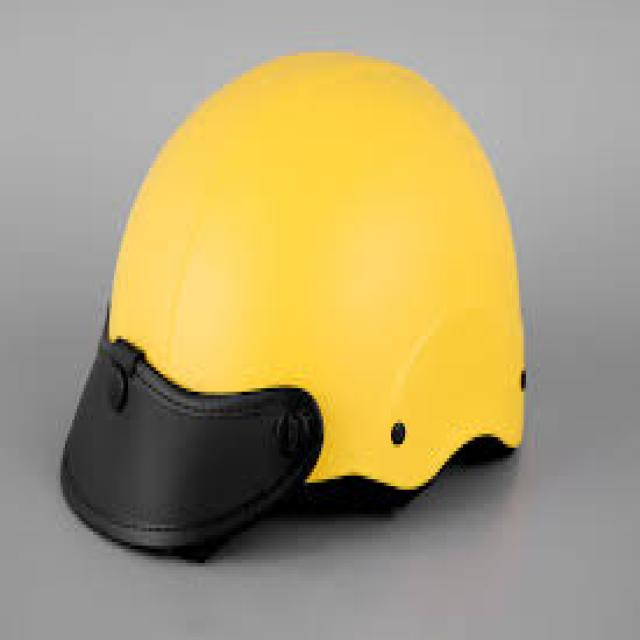Helmet: (54, 42, 535, 563)
